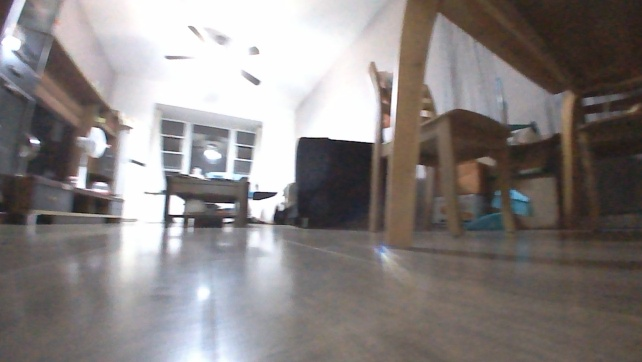TV_stand: (10, 170, 126, 228)
dining_table1: (363, 0, 641, 248)
sofa1: (245, 134, 375, 230)
tea_table1: (161, 173, 253, 228)
